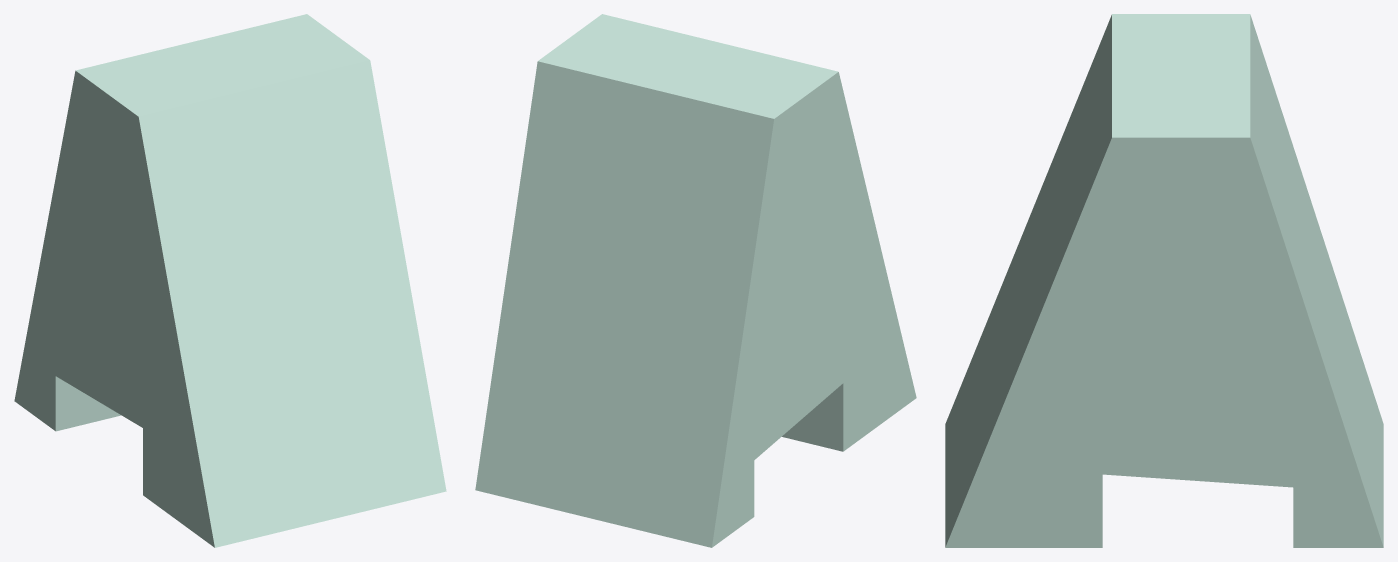
The picture shows the model from 3 angles, left to right: view 1: azimuth 30°, elevation 25°; view 2: azimuth 150°, elevation 25°; view 3: azimuth 270°, elevation 25°; orthographic projection. The views are drawn at different scales.
Parts seen in each view (by area): view 1: Renderer Node; view 2: Renderer Node; view 3: Renderer Node.
Part boxes in pixels (<box>): Renderer Node: <box>14,14,446,547</box>; Renderer Node: <box>475,14,916,547</box>; Renderer Node: <box>945,14,1383,547</box>.
Bounding box in the file's own units: 0.4844 × 0.75 × 0.7263.
